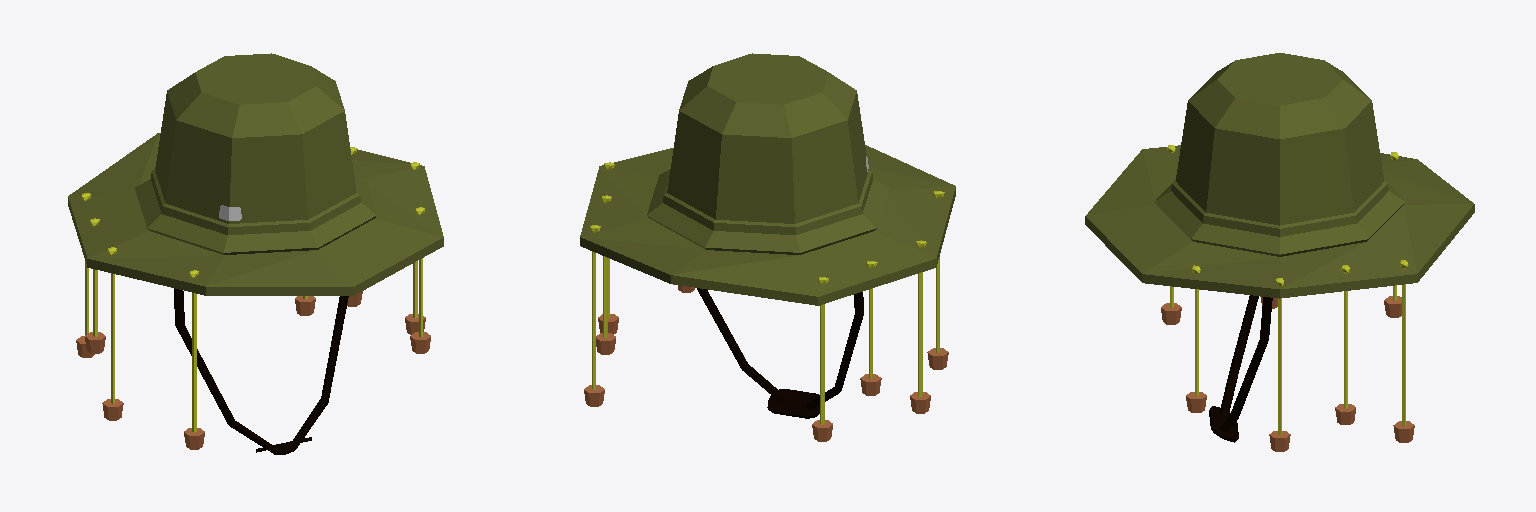
Rendered from AussieHat.obj.
3 views of the same model, side by side, from view 1: azimuth 30°, elevation 25°; view 2: azimuth 150°, elevation 25°; view 3: azimuth 270°, elevation 25° (orthographic).
Parts seen in each view (by area): view 1: AussieHat_Cylinder; view 2: AussieHat_Cylinder; view 3: AussieHat_Cylinder.
Part boxes in pixels (bbox=[...]): AussieHat_Cylinder: bbox=[68, 53, 443, 454]; AussieHat_Cylinder: bbox=[580, 53, 955, 441]; AussieHat_Cylinder: bbox=[1085, 53, 1474, 451].
Size of the model in its own units: 0.5217 by 0.5232 by 0.5217.